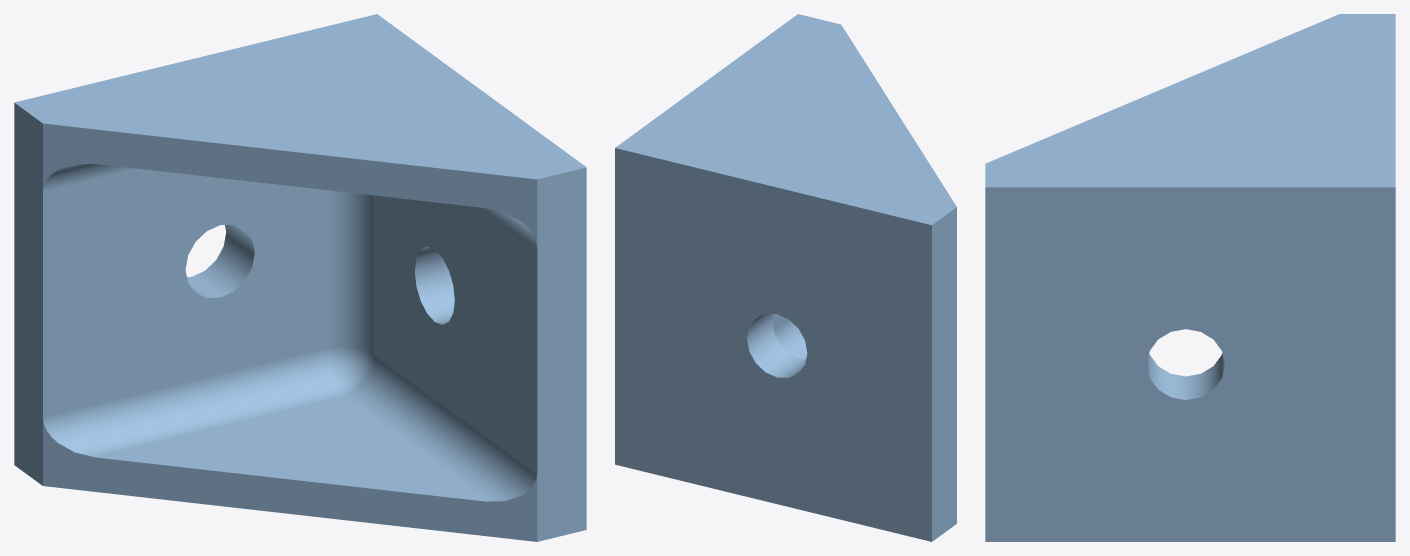
3 renders of one model, left to right at view 1: azimuth 30°, elevation 25°; view 2: azimuth 150°, elevation 25°; view 3: azimuth 270°, elevation 25°, orthographic. The views are drawn at different scales.
Visible parts, largest first — view 1: mesh15778, mesh15771, mesh15768, mesh15779, mesh15776, mesh15770, mesh15780, mesh15785, mesh15773, mesh15786, mesh15784, mesh15775 (+3 smaller); view 2: mesh15774, mesh15771, mesh15773, mesh15775, mesh15786; view 3: mesh15769, mesh15771, mesh15767.
Boxes of the visible parts, <box> form: mesh15778: <box>43,169,323,416</box>; mesh15771: <box>14,14,586,179</box>; mesh15768: <box>375,195,537,472</box>; mesh15779: <box>43,419,537,541</box>; mesh15776: <box>43,123,537,247</box>; mesh15770: <box>537,167,586,541</box>; mesh15780: <box>96,397,484,501</box>; mesh15785: <box>43,348,341,457</box>; mesh15773: <box>14,103,42,485</box>; mesh15786: <box>343,354,536,501</box>; mesh15784: <box>323,189,375,353</box>; mesh15775: <box>187,224,254,298</box>; mesh15774: <box>615,148,931,541</box>; mesh15771: <box>615,14,956,225</box>; mesh15773: <box>932,207,956,541</box>; mesh15775: <box>747,313,805,377</box>; mesh15786: <box>773,319,807,359</box>; mesh15769: <box>985,187,1395,541</box>; mesh15771: <box>985,14,1395,187</box>; mesh15767: <box>1146,353,1224,399</box>.
Size of the model in its own units: 0.044 by 0.042 by 0.044.
